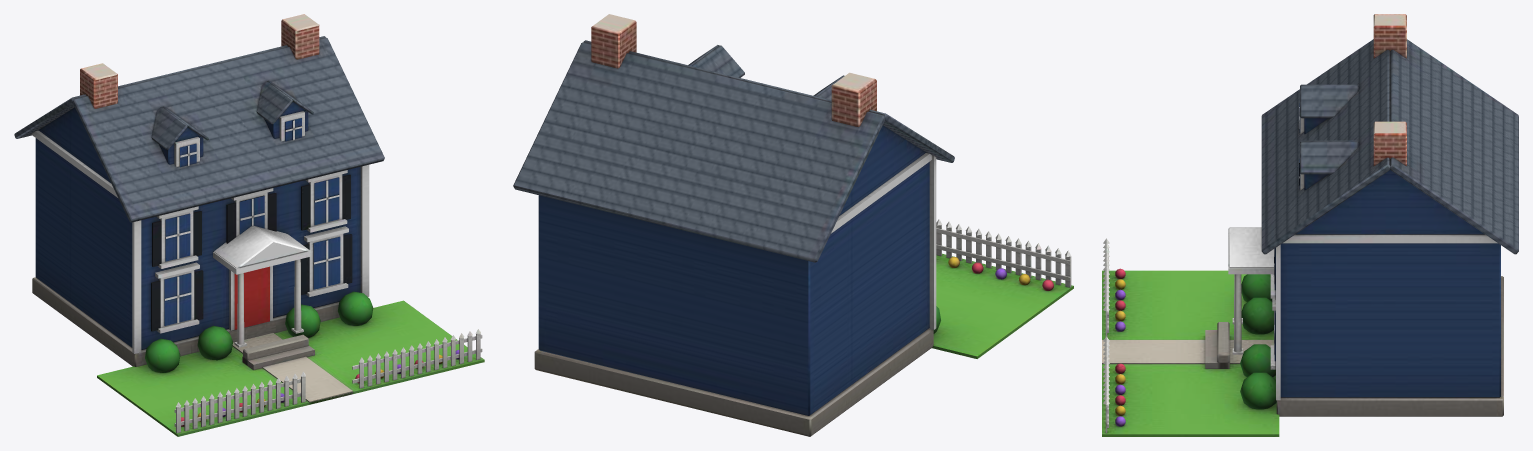
File: colonial.glb
The picture shows the model from 3 angles, left to right: view 1: azimuth 30°, elevation 25°; view 2: azimuth 150°, elevation 25°; view 3: azimuth 270°, elevation 25°; orthographic projection. The views are drawn at different scales.
Visible parts, largest first — view 1: colonial; view 2: colonial; view 3: colonial.
Part boxes in pixels (box(x1,y1,x2,y2)): colonial: box(14, 14, 484, 436); colonial: box(513, 14, 1073, 436); colonial: box(1102, 14, 1518, 436).
Bounding box in the file's own units: 7 × 5.66 × 7.52.
1 material, 1 textured.
